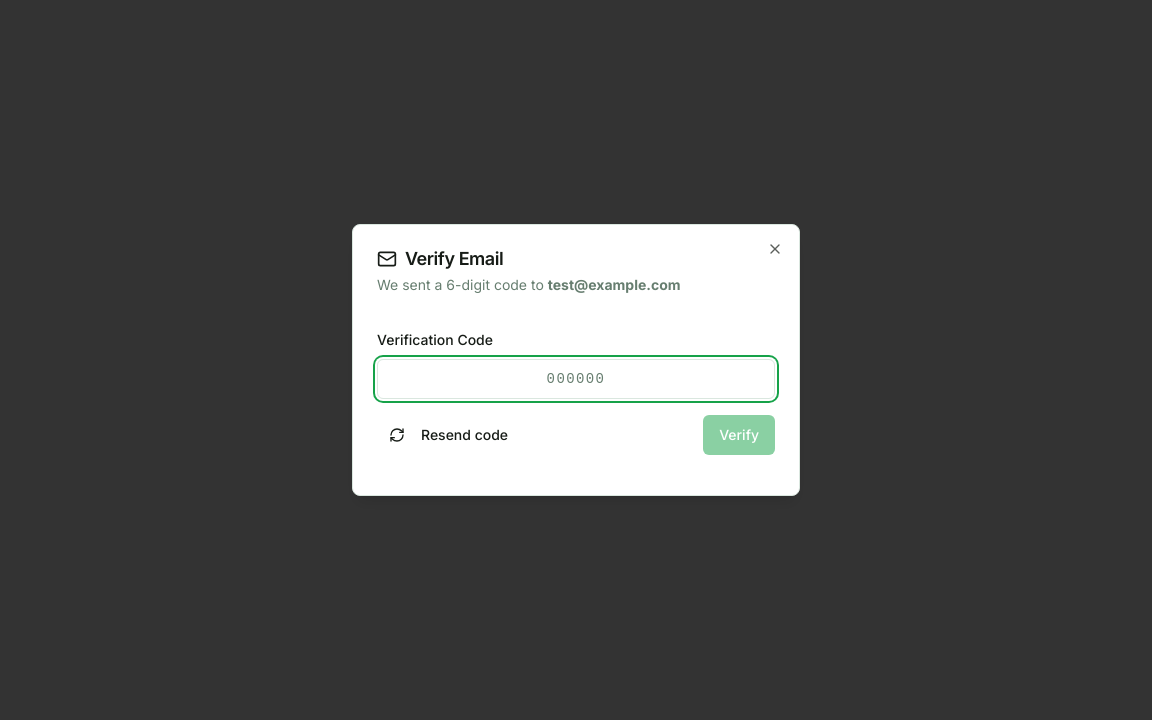
Test: VerifyEmailDialog › enables verify button when 6 digits entered
Check: the button "Verify" is disabled, box [703,415,775,455]
Type "12345" into the field with placeholder "000000" at (576, 379), box [377,359,775,399]
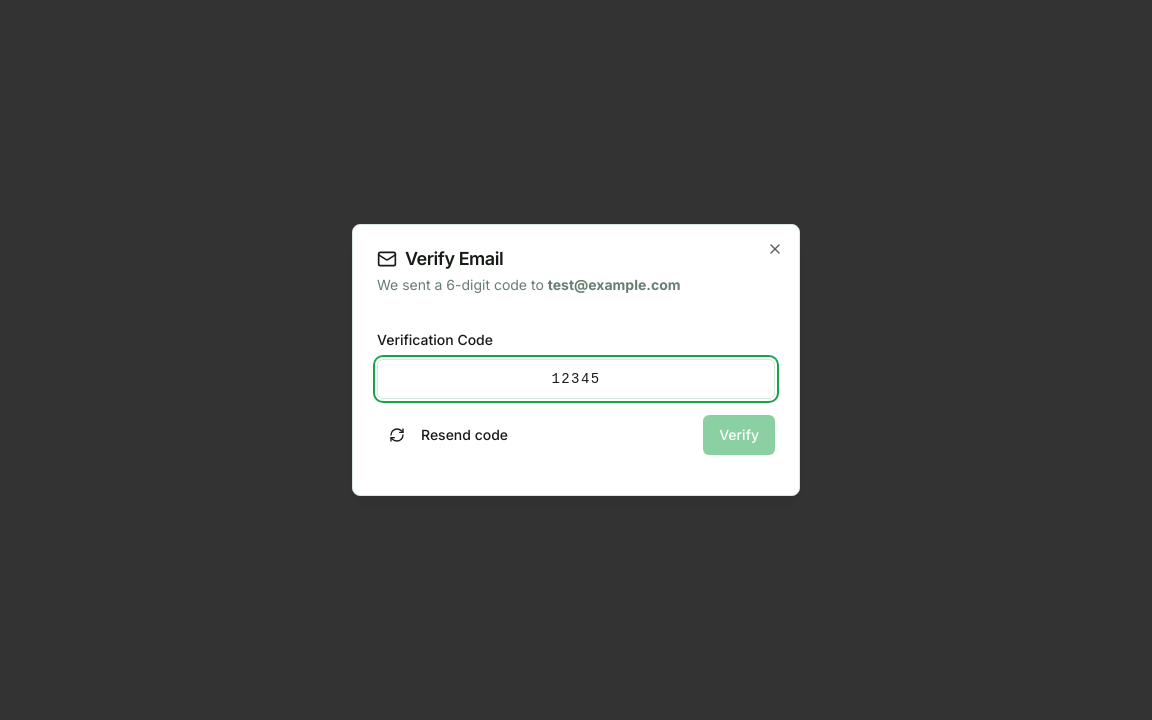
Check: the button "Verify" is disabled, box [703,415,775,455]
# Type 6th digit - enabled
Type "6" into the field with placeholder "000000" at (576, 379), box [377,359,775,399]
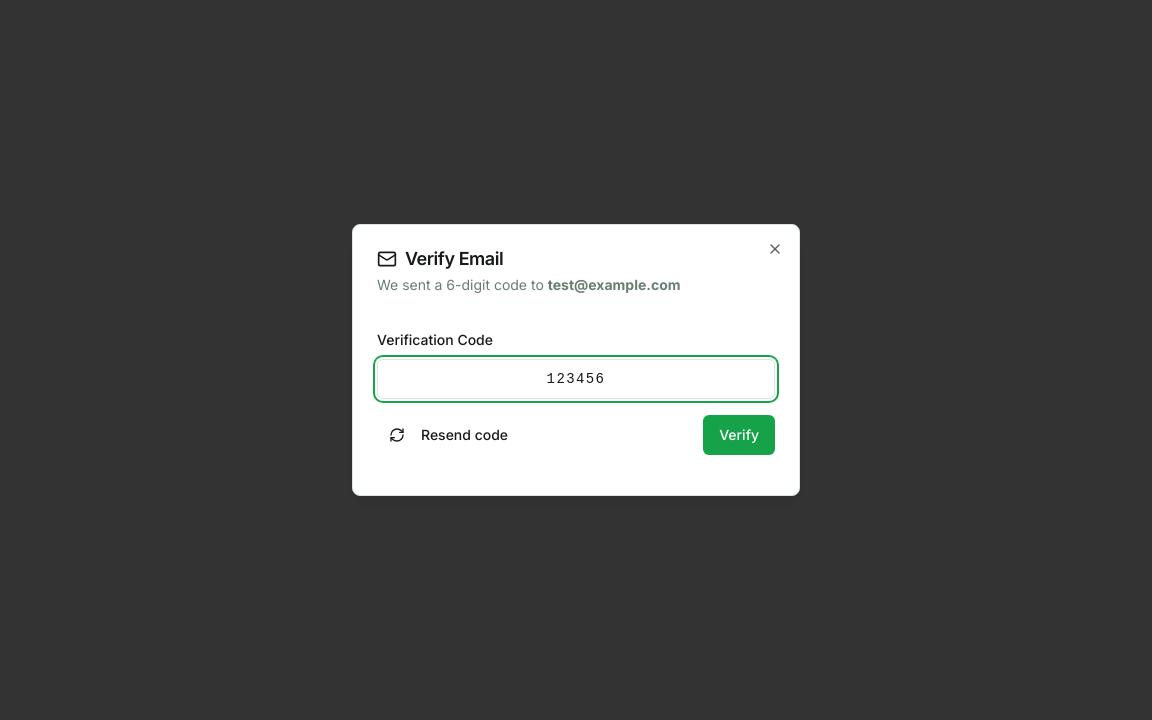
Check: the button "Verify" is enabled, box [703,415,775,455]
